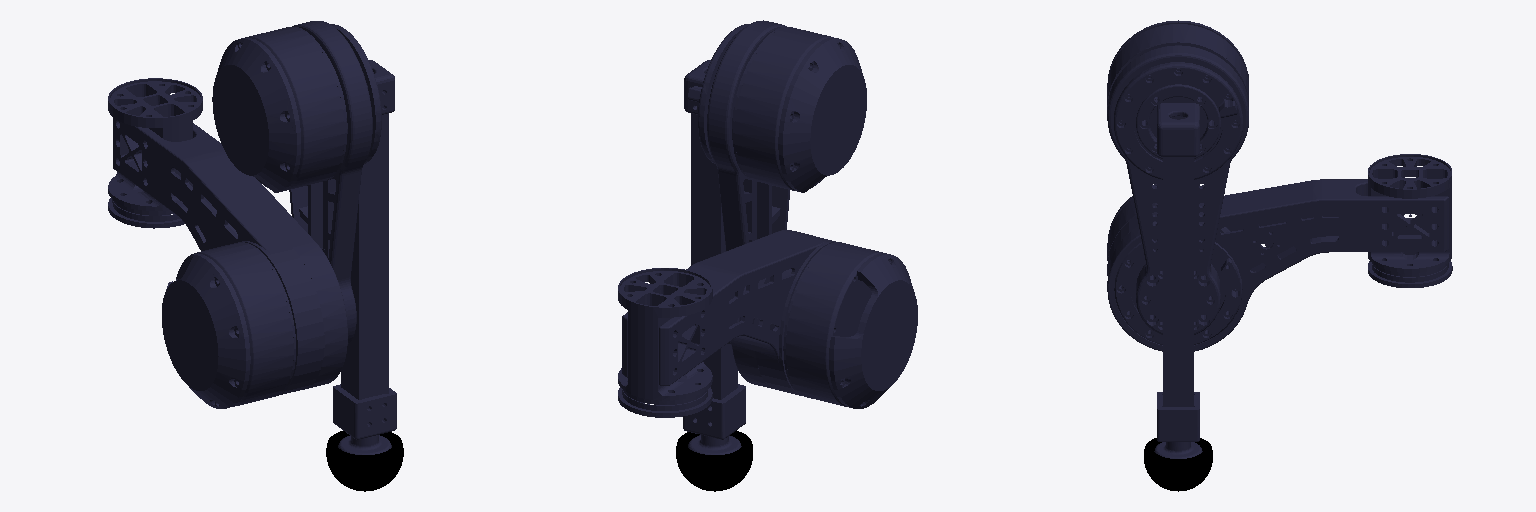
URDF robot description (el_mini):
<?xml version="1.0" encoding="utf-8"?>
<!-- =================================================================================== -->
<!-- ============ This URDF was created by [author] k206 [author] 2023.11.07 ============= -->
<!-- =================================================================================== -->
<robot
  name="el_mini">
  <material name="black">
    <color rgba="0.0 0.0 0.0 1.0"/>
  </material>
  <material name="blue">
    <color rgba="0.0 0.0 0.8 1.0"/>
  </material>
  <material name="green">
    <color rgba="0.0 0.8 0.0 1.0"/>
  </material>
  <material name="grey">
    <color rgba="0.2 0.2 0.2 1.0"/>
  </material>
  <material name="red">
    <color rgba="0.8 0.0 0.0 1.0"/>
  </material>
  <material name="white">
    <color rgba="1.0 1.0 1.0 1.0"/>
  </material>
  <link
    name="base_link">
    <inertial>
      <origin
        xyz="0.00000732 0.00000000 0.02428745"
        rpy="0 0 0" />
      <mass
        value="15.89907465" />
      <!-- <mass -->
        <!-- value="8.89907465" /> -->
      <inertia
        ixx="0.09260861"
        ixy="-0.00001892"
        ixz="0.00000158"
        iyy="0.47054913"
        iyz="0.00000000"
        izz="0.53896766" />
    </inertial>
    <visual>
      <origin
        xyz="0 0 0"
        rpy="0 0 0" />
        <geometry>
                <sphere radius="0.001" />
                 </geometry>
      
      <material
        name="grey">
        <color
          rgba="0.2 0.2 0.3 1" />
      </material>
    </visual>
    <collision>
      <origin
        xyz="0 0 0"
        rpy="0 0 0" />
    
        <geometry>
            <sphere radius="0.001" />
             </geometry>
     
    </collision>
  </link>
  <link
    name="RF_HIP">
    <inertial>
      <origin
        xyz=" -0.01146909 -0.12306389 -0.03643601"
        rpy="0 0 0" />
      <mass
        value="1.20924153" />
      <inertia
        ixx="0.00506259"
        ixy="-0.00037922"
        ixz="-0.00012353"
        iyy="0.00134204"
        iyz="-0.00101741"
        izz="0.00448477" />
    </inertial>
    <visual>
      <origin
        xyz="0 0 0"
        rpy="0 0 0" />
      <geometry>
        <mesh
          filename="package://robot/urdf/el_mini/meshes/RF_HIP.STL" />
      </geometry>
      <material
        name="grey">
        <color
          rgba="0.2 0.2 0.3 1" />
      </material>
    </visual>
    <collision>
      <origin
        xyz="0 0 0"
        rpy="0 0 0" />
      <geometry>
        <mesh
          filename="package://robot/urdf/el_mini/meshes/RF_HIP.STL" />
      </geometry>
    </collision>
  </link>
  <joint
    name="RF_HAA"
    type="revolute">
    <origin
      xyz="0.0 -0.00 0.00"
      rpy="0 0 0" />
    <parent
      link="base_link" />
    <child
      link="RF_HIP" />
    <axis
      xyz="0 0 1" />
    <limit
      lower="-0.785"
      upper="0.785"
      effort="33.5"
      velocity="21" />
  </joint>
  <link
    name="RF_THIGH">
    <inertial>
      <origin
        xyz="0.11424797 -0.00005753 -0.01976803"
        rpy="0 0 0" />
      <mass
        value="0.92523512" />
      <inertia
        ixx="0.00065690"
        ixy="0.00000148"
        ixz="0.00012260"
        iyy="0.00209449"
        iyz="0.00000158"
        izz="0.00237655" />
    </inertial>
    <visual>
      <origin
        xyz="0 0 0"
        rpy="0 0 0" />
      <geometry>
        <mesh
          filename="package://robot/urdf/el_mini/meshes/RF_THIGH.STL" />
      </geometry>
      <material
        name="grey">
        <color
          rgba="0.2 0.2 0.3 1" />
      </material>
    </visual>
    <collision>
      <origin
        xyz="0 0 0"
        rpy="0 0 0" />
      <geometry>
        <mesh
          filename="package://robot/urdf/el_mini/meshes/RF_THIGH.STL" />
      </geometry>
    </collision>
  </link>
  <joint
    name="RF_HFE"
    type="revolute">
    <origin
      xyz="0.0355 -0.14999 -0.045056"
      rpy="3.1416 -1.5708 0" />
    <parent
      link="RF_HIP" />
    <child
      link="RF_THIGH" />
    <axis
      xyz="0 0 1" />
    <limit
      lower="-0.5233"
      upper="3.14"
      effort="33.5"
      velocity="21" />
  </joint>
  <link
    name="RF_SHANK">
    <inertial>
      <origin
        xyz="0.00000000 -0.07024046 -0.00923673"
        rpy="0 0 0" />
      <mass
        value="0.28148664" />
      <inertia
        ixx="0.00256638"
        ixy="0.00000000"
        ixz="0.00000000"
        iyy="0.00009216"
        iyz="-0.00017328"
        izz="0.00258818" />
    </inertial>
    <visual>
      <origin
        xyz="0 0 0"
        rpy="0 0 0" />
      <geometry>
        <mesh
          filename="package://robot/urdf/el_mini/meshes/RF_SHANK.STL" />
      </geometry>
      <material
        name="grey">
        <color
          rgba="0.2 0.2 0.3 1" />
      </material>
    </visual>
    <collision>
      <origin
        xyz="0 0 0"
        rpy="0 0 0" />
      <geometry>
        <mesh
          filename="package://robot/urdf/el_mini/meshes/RF_SHANK.STL" />
      </geometry>
    </collision>
  </link>
  <joint
    name="RF_KFE"
    type="revolute">
    <origin
      xyz="0.13 0 0"
      rpy="3.1416 0 1.5708" />
    <parent
      link="RF_THIGH" />
    <child
      link="RF_SHANK" />
    <axis
      xyz="0 0 1" />
    <limit
      lower="-0.6978"
      upper="3.925"
      effort="33.5"
      velocity="21" />
  </joint>
  <link
    name="RF_FOOT">
    <inertial>
      <origin
        xyz="0.00000000 -0.0070918 0.00000000"
        rpy="0 0 0" />
      <mass
        value="0.01901289" />
      <inertia
        ixx="0.00000396"
        ixy="0.00000000"
        ixz="0.00000000"
        iyy="0.00000573"
        iyz="0.00000000"
        izz="0.00000396" />
    </inertial>
    <visual>
      <origin
        xyz="0 0 0"
        rpy="0 0 0" />
      <geometry>
        <mesh
          filename="package://robot/urdf/el_mini/meshes/RF_FOOT.STL" />
      </geometry>
      <material
        name="black">
        <color
          rgba="0 0 0 1" />
      </material>
    </visual>
    <collision>
      <origin
        xyz="0 0 0"
        rpy="0 0 0" />
      <geometry>
        <mesh
          filename="package://robot/urdf/el_mini/meshes/RF_FOOT.STL" />
      </geometry>
    </collision>
  </link>
  <joint
    name="RF_FIX"
    type="fixed" dont_collapse="true">
    <origin
      xyz="0 -0.232000000000001 -0.0179999999999972"
      rpy="0 0 0" />
    <parent
      link="RF_SHANK" />
    <child
      link="RF_FOOT" />
    <axis
      xyz="0 0 0" />
  </joint>
</robot>

--- Facts derived from the render (not from the file) ---
3 views of the same robot in one strip: view 1: azimuth 30°, elevation 25°; view 2: azimuth 150°, elevation 25°; view 3: azimuth 270°, elevation 25° (orthographic).
Model el_mini with 5 links and 4 joints (3 revolute, 1 fixed), rooted at base_link, posed every joint at zero.
Links seen in each view (by area): view 1: RF_HIP, RF_THIGH, RF_SHANK, RF_FOOT; view 2: RF_HIP, RF_THIGH, RF_SHANK, RF_FOOT; view 3: RF_HIP, RF_THIGH, RF_SHANK, RF_FOOT.
Link boxes in pixels (x1=…): RF_HIP: x1=108, y1=78, x2=347, y2=408; RF_THIGH: x1=212, y1=21, x2=381, y2=343; RF_SHANK: x1=333, y1=60, x2=396, y2=454; RF_FOOT: x1=326, y1=431, x2=403, y2=491; RF_HIP: x1=618, y1=230, x2=917, y2=417; RF_THIGH: x1=688, y1=20, x2=866, y2=250; RF_SHANK: x1=683, y1=60, x2=745, y2=454; RF_FOOT: x1=676, y1=430, x2=752, y2=491; RF_HIP: x1=1107, y1=154, x2=1452, y2=351; RF_THIGH: x1=1107, y1=20, x2=1248, y2=334; RF_SHANK: x1=1134, y1=83, x2=1222, y2=458; RF_FOOT: x1=1144, y1=438, x2=1212, y2=491.
Bounding box of the posed robot: 0.1395 × 0.2235 × 0.3005 m (x, y, z).
Meshes: 4 distinct files referenced, 4 mesh visuals loaded (4 binary STL).
